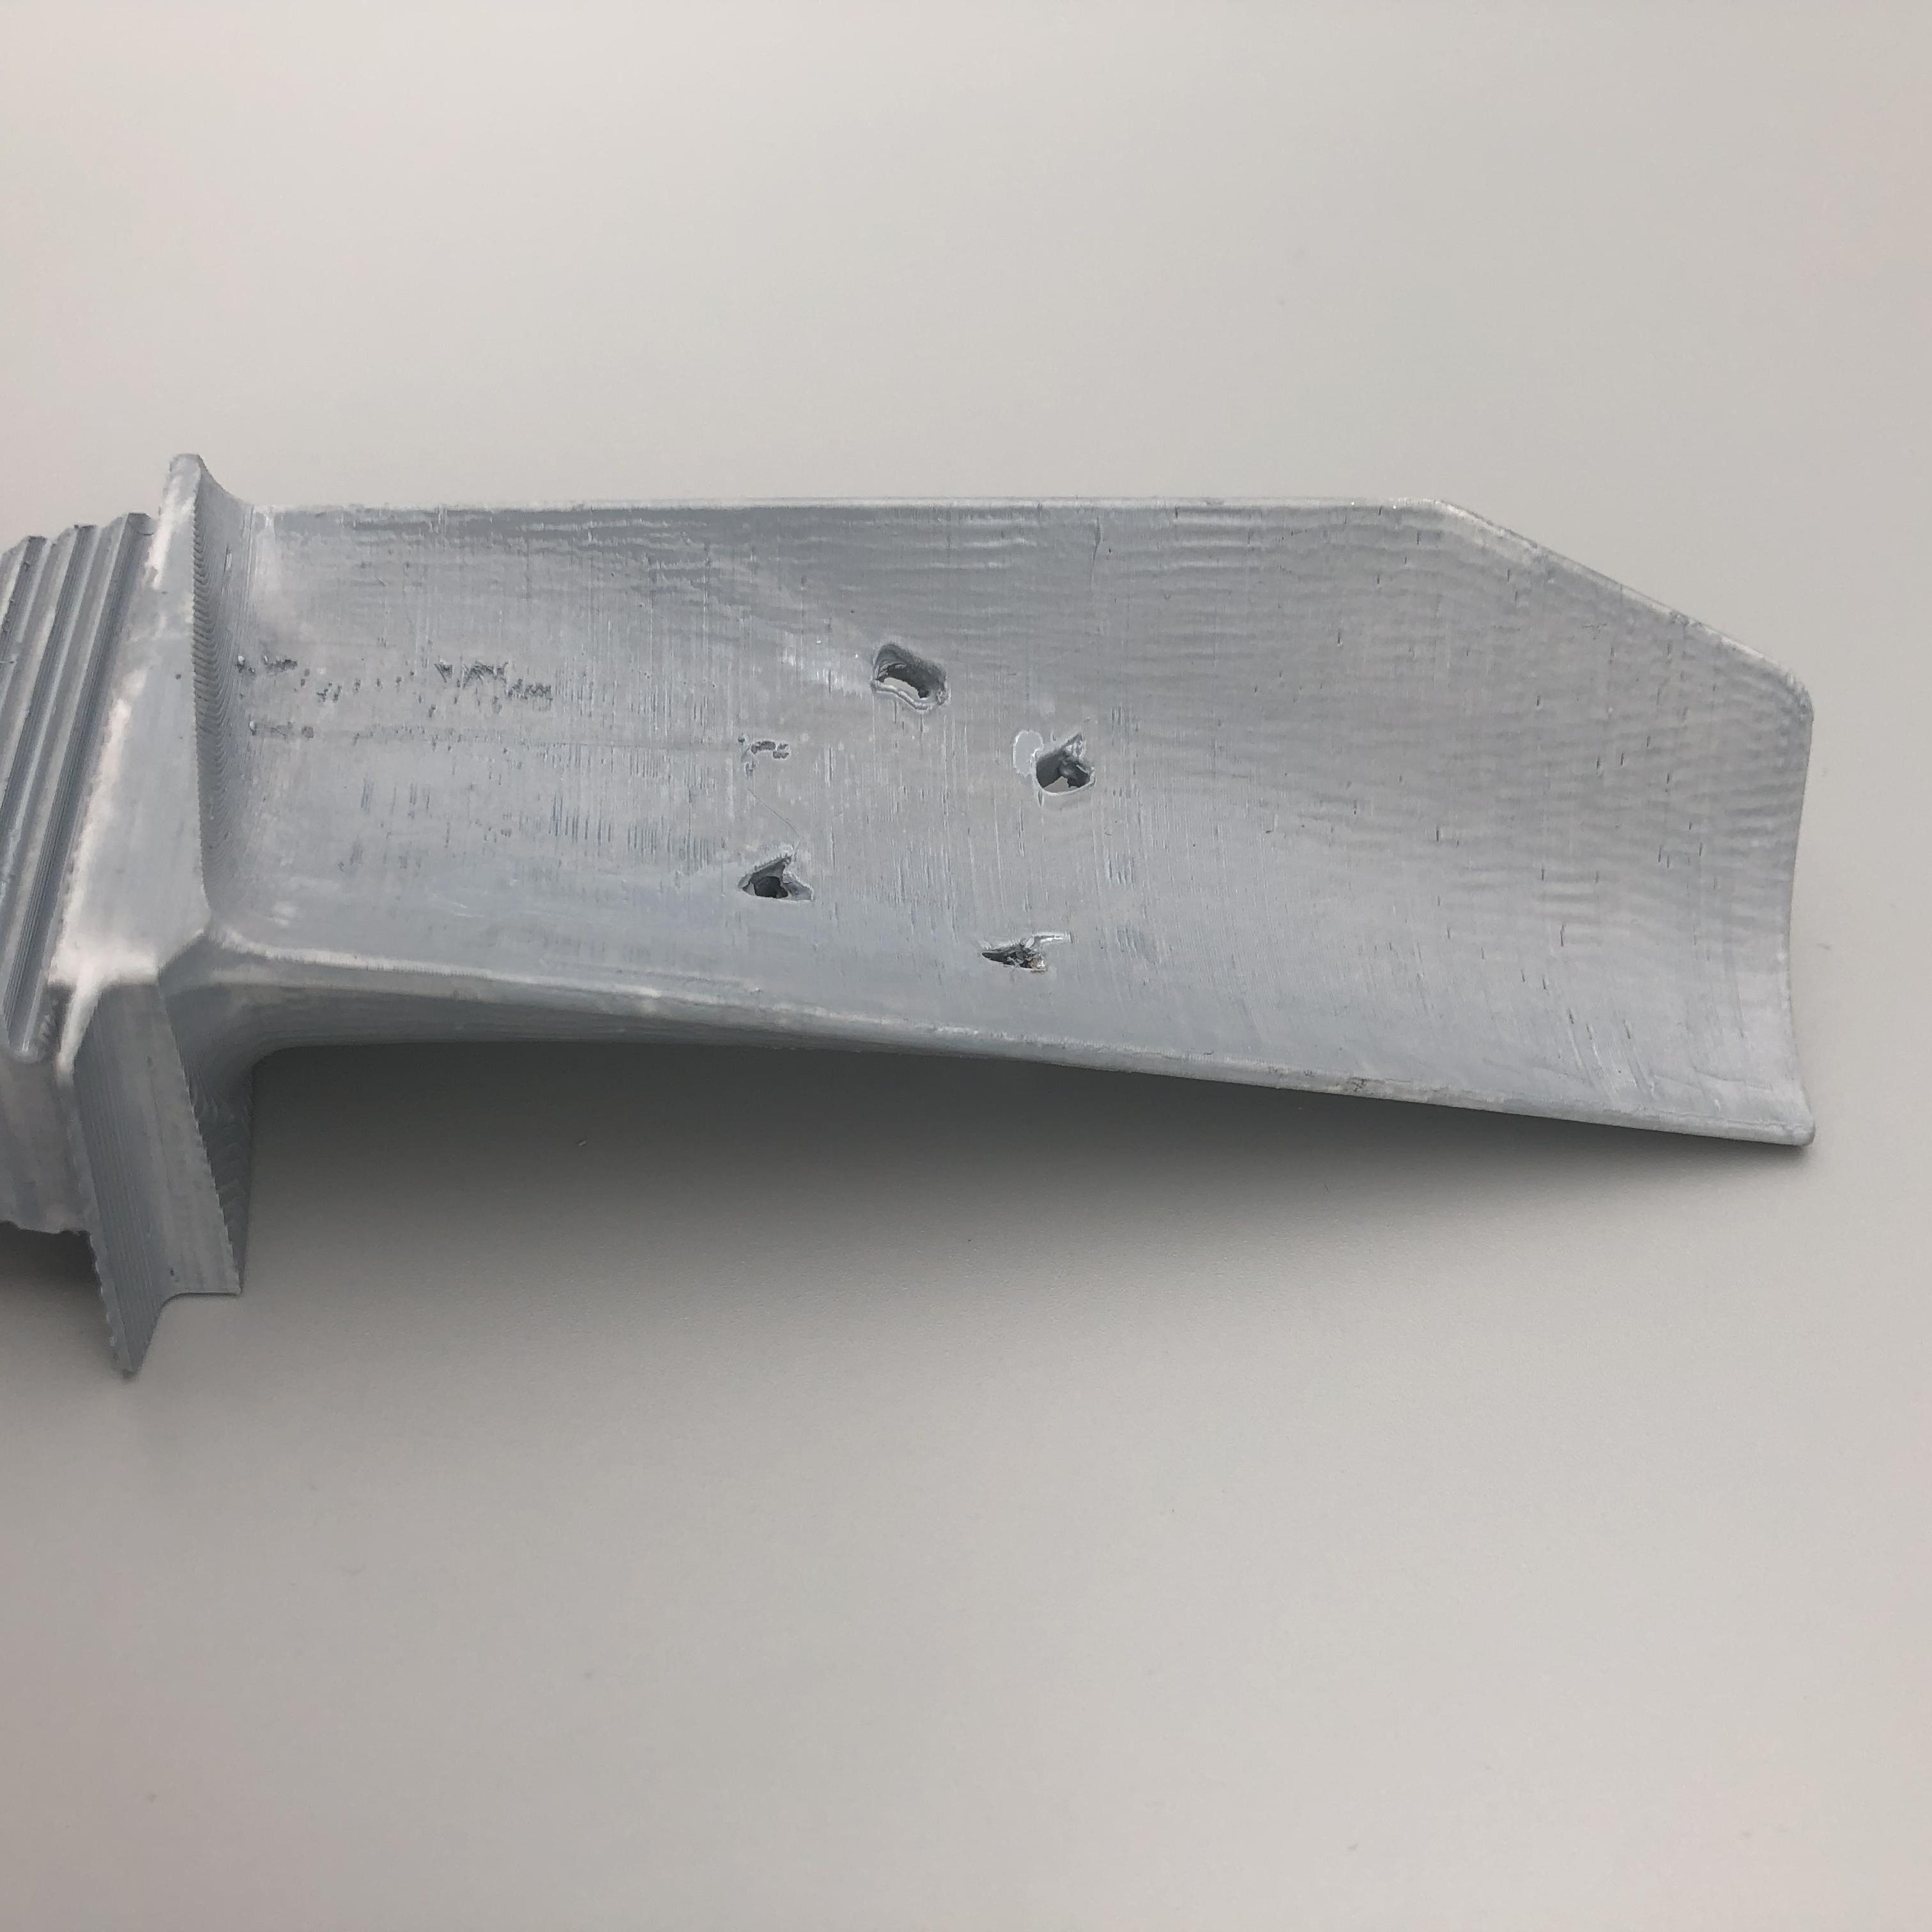breakdown: (745, 639, 1093, 982)
